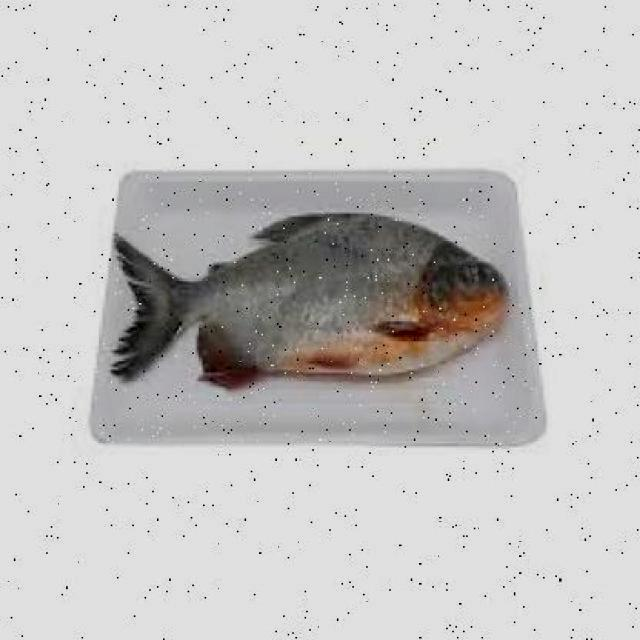ikan-pacu: (110, 211, 512, 395)
